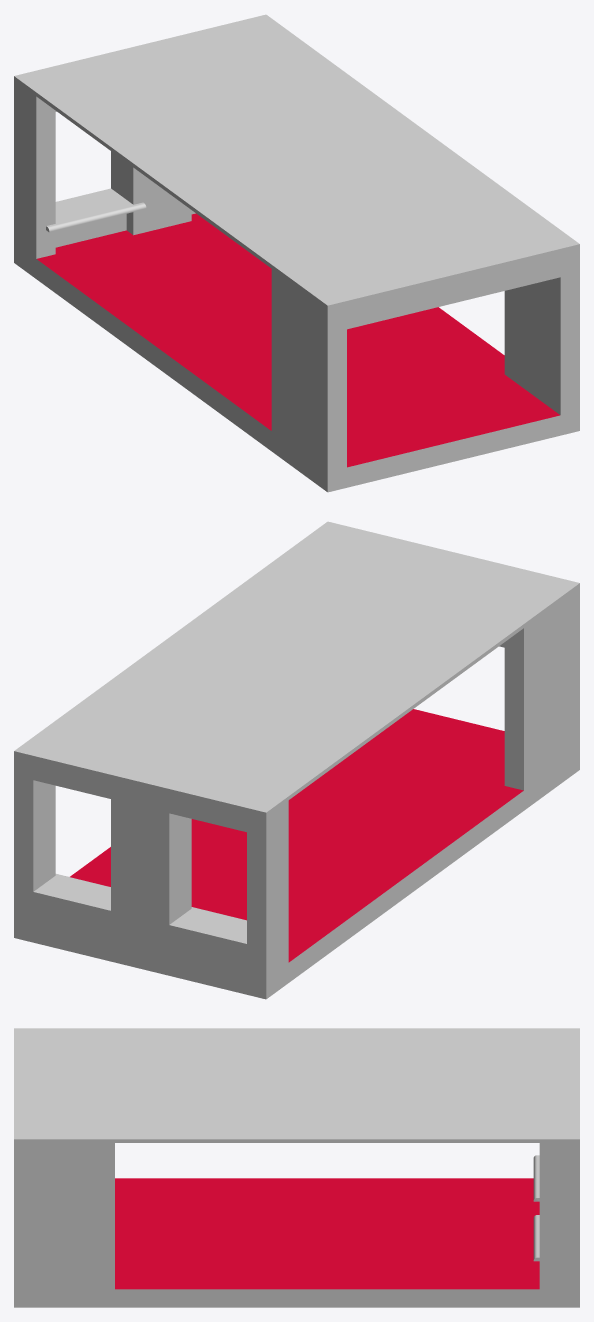
The model's file is Recrea.fbx.
The picture shows the model from 3 angles, top to bottom: view 1: azimuth 30°, elevation 25°; view 2: azimuth 150°, elevation 25°; view 3: azimuth 270°, elevation 25°; orthographic projection. The views are drawn at different scales.
Visible parts, largest first — view 1: 316.001; view 2: 316.001; view 3: 316.001.
Boxes of the visible parts, x1,y1,x2,y2 form: 316.001: (14,14,579,492); 316.001: (14,521,579,999); 316.001: (14,1028,579,1307).
Size of the model in its own units: 650 by 460 by 1400.
